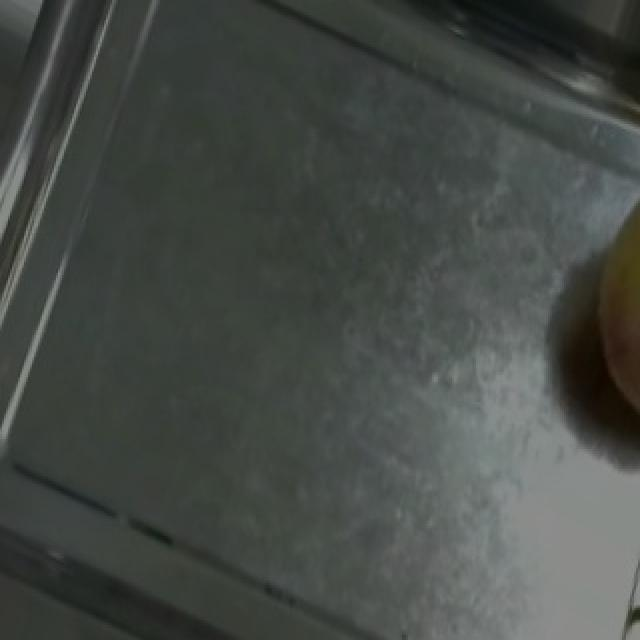Fruit: (554, 166, 640, 464)
